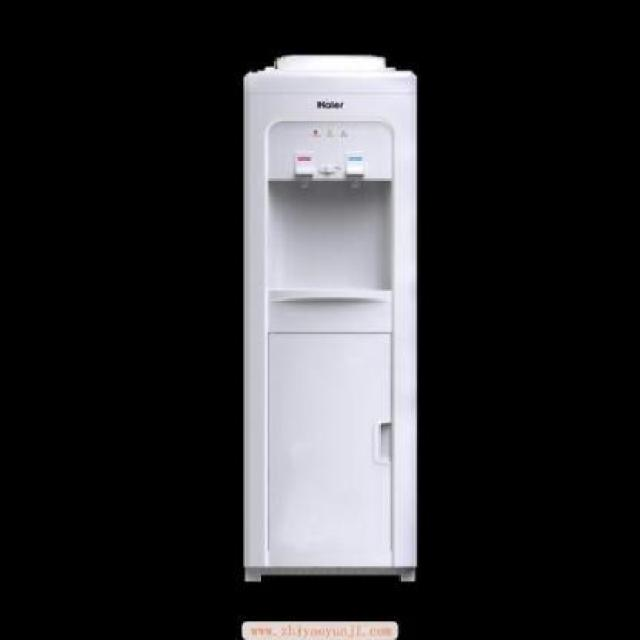cooler: (241, 44, 427, 590)
